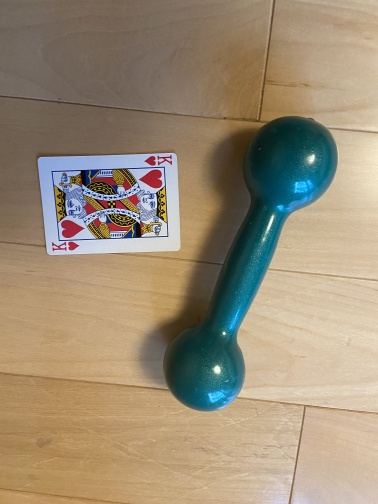king: (36, 152, 182, 256)
